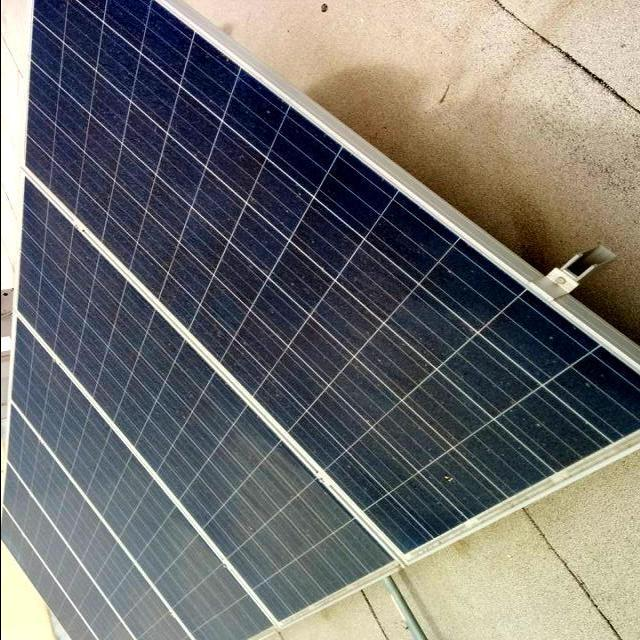soiled: (4, 17, 640, 637)
